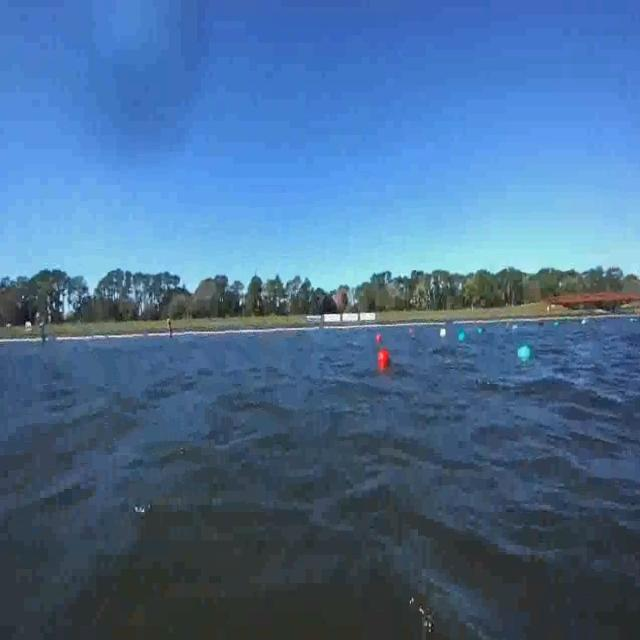green-buoy: (518, 344, 532, 362), (458, 328, 467, 342)
red-buoy: (378, 348, 392, 372), (377, 335, 383, 345)
yellow-buoy: (439, 322, 446, 340)
